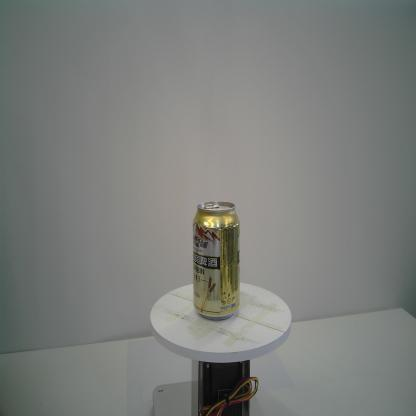Alcohol: (192, 200, 241, 322)
